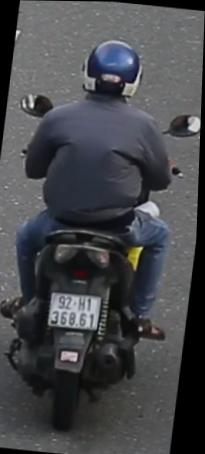LP: (47, 286, 107, 334)
helmet: (78, 32, 146, 108)
